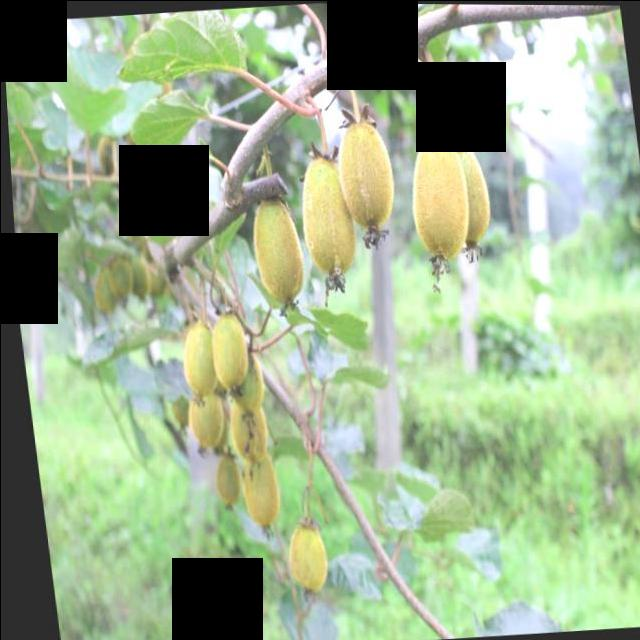kiwi: (400, 124, 476, 281), (329, 103, 397, 249), (291, 146, 356, 291), (429, 130, 493, 257), (244, 188, 305, 305), (274, 516, 324, 603), (202, 305, 247, 399), (169, 318, 214, 398), (232, 448, 277, 528), (220, 385, 264, 464), (219, 348, 262, 420), (179, 388, 221, 454), (204, 448, 237, 507)
